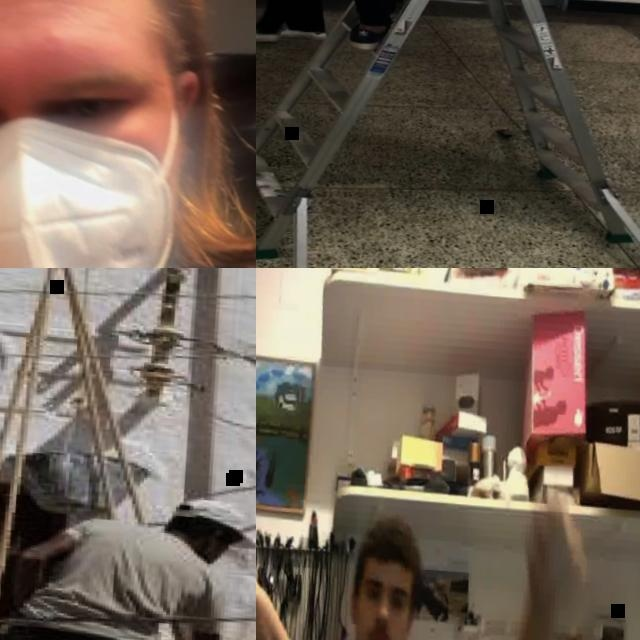Hardhat: (162, 491, 250, 540)
Mask: (0, 108, 185, 268)
NO-Hardhat: (363, 516, 423, 575)
NO-Mask: (195, 535, 224, 563), (356, 623, 399, 640)
NO-Safety Vest: (11, 513, 186, 640)
Person: (256, 397, 594, 640), (0, 0, 256, 268), (0, 465, 256, 640), (295, 0, 591, 65)
